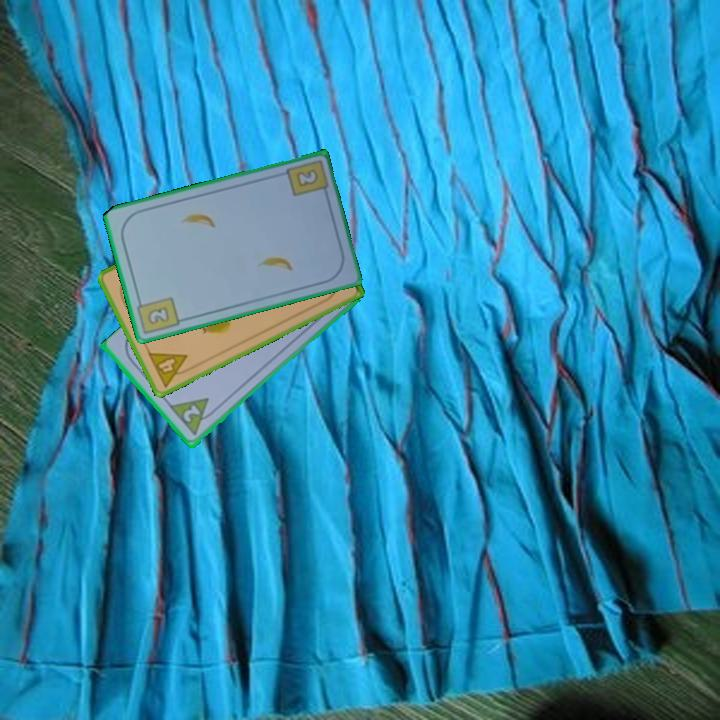2b: (133, 293, 183, 337), (292, 165, 321, 190)
2p: (179, 402, 203, 426)
4p: (144, 349, 196, 390)
